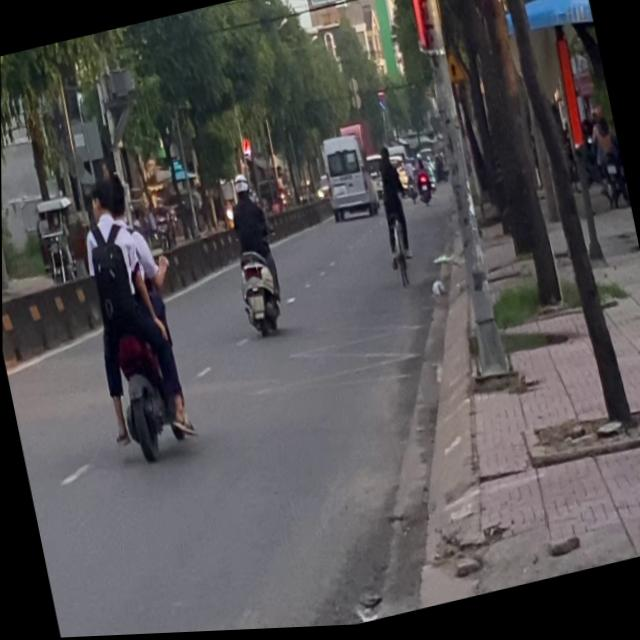licenseplate: (58, 156, 200, 472)
motorcyclist: (83, 174, 125, 234)
